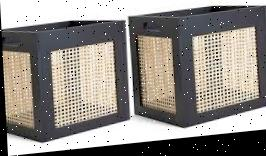cube: (128, 5, 266, 137), (1, 17, 130, 147)
